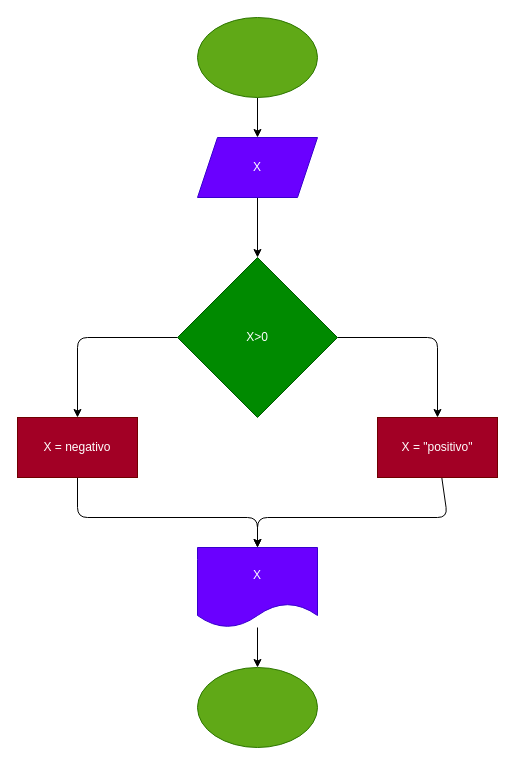
Some shapes in this 515 by 765 pixel diagram are drawn without their labels. Each missing label, with the centre of its shape:
"FIN" goes at pixel 257 707.
"INICIO" goes at pixel 257 57.
